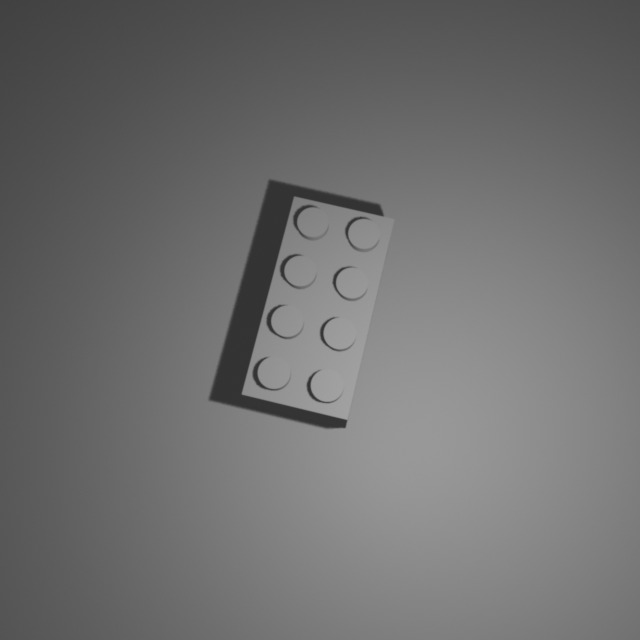lego_2x4: (241, 193, 395, 428)
